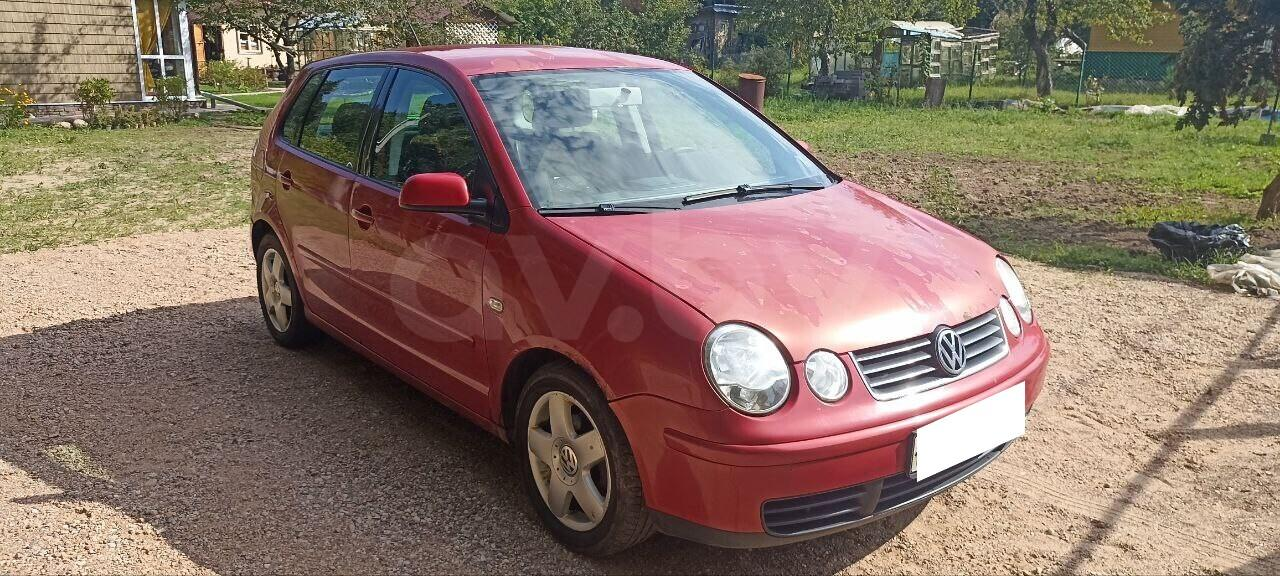Polo_2001-2005: (242, 38, 1047, 562)
